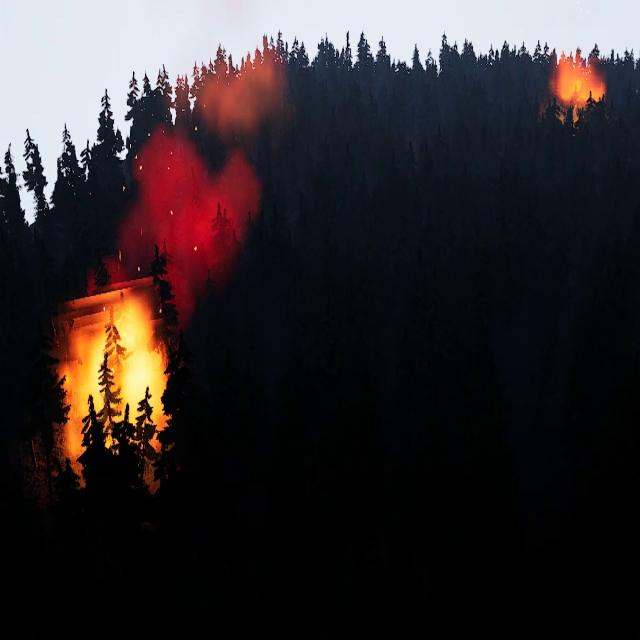fire: (56, 287, 168, 448), (551, 54, 604, 120)
smoke: (114, 123, 262, 307), (195, 30, 285, 142)
